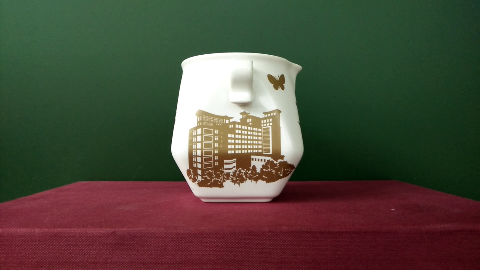butterfly: (257, 57, 295, 100)
lenwen: (194, 122, 276, 180)
